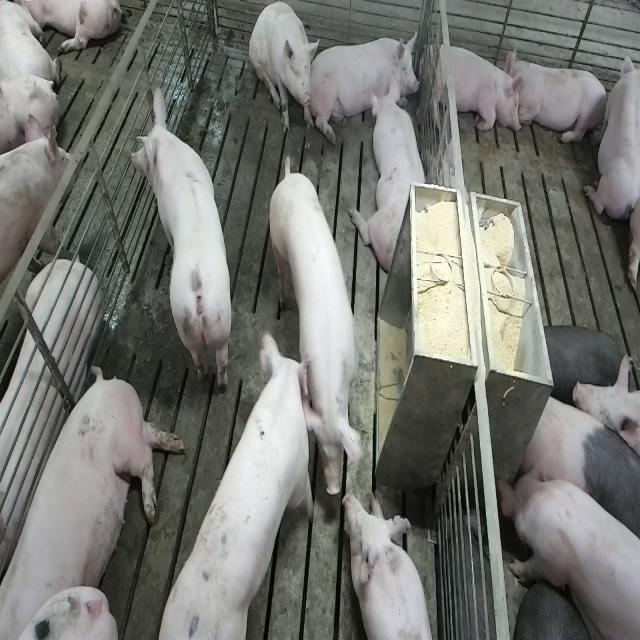Lateral_lying: (4, 362, 187, 636), (0, 257, 102, 580)
Sitting: (249, 3, 317, 138)
Standing: (156, 324, 319, 636), (265, 152, 361, 542), (128, 85, 234, 402), (499, 465, 638, 640), (520, 386, 638, 562), (0, 117, 80, 367)
Sternal_lying: (358, 84, 430, 275), (348, 488, 438, 638), (312, 27, 420, 138), (584, 42, 638, 224), (510, 52, 610, 150), (426, 38, 524, 138)
